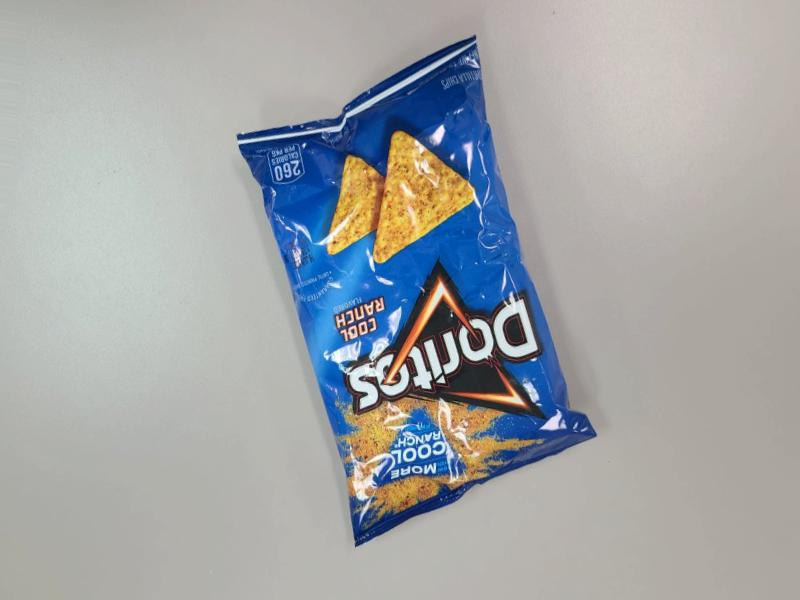doritos: (232, 54, 648, 600)
